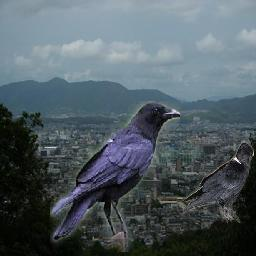Crow: (50, 102, 180, 253), (180, 141, 254, 223)
